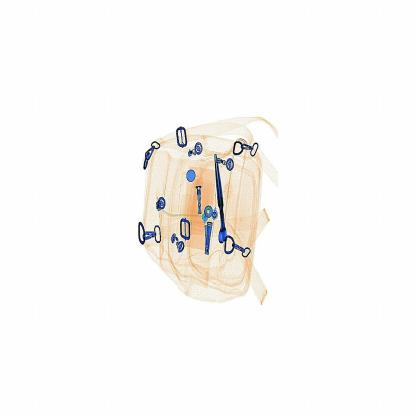gun: (212, 148, 242, 256)
